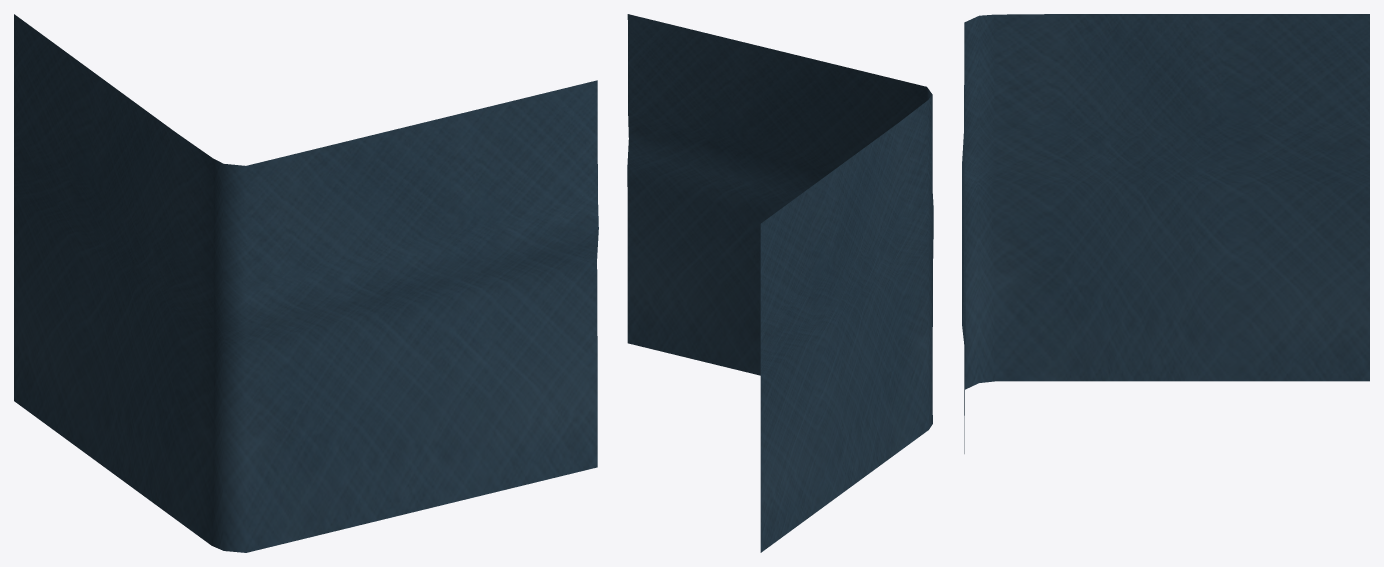
The model's file is tl_fallR.FBX.
The picture shows the model from 3 angles, left to right: view 1: azimuth 30°, elevation 25°; view 2: azimuth 150°, elevation 25°; view 3: azimuth 270°, elevation 25°; orthographic projection. The views are drawn at different scales.
Parts seen in each view (by area): view 1: tl_fallR_MESH; view 2: tl_fallR_MESH; view 3: tl_fallR_MESH.
Boxes of the visible parts, x1,y1,x2,y2 form: tl_fallR_MESH: [14, 14, 598, 552]; tl_fallR_MESH: [627, 14, 933, 552]; tl_fallR_MESH: [962, 14, 1369, 453].
Size of the model in its own units: 100 by 100 by 101.
